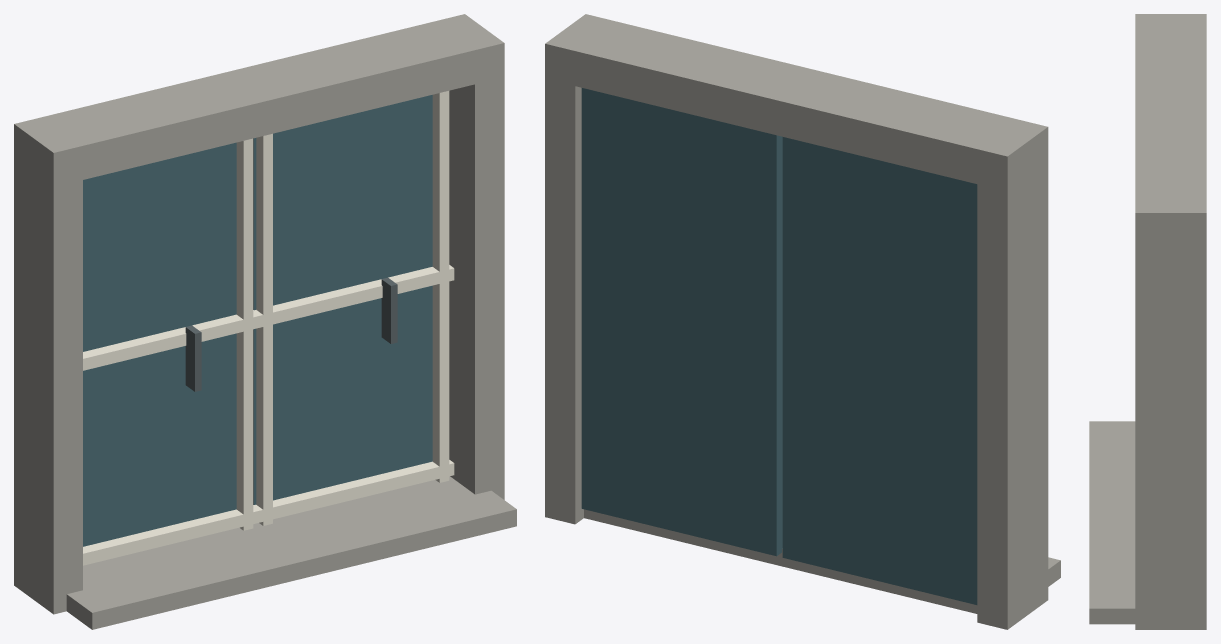
3 renders of one model, left to right at view 1: azimuth 30°, elevation 25°; view 2: azimuth 150°, elevation 25°; view 3: azimuth 270°, elevation 25°, orthographic. The views are drawn at different scales.
Parts seen in each view (by area): view 1: QH-A0037_V01_geometry; view 2: QH-A0037_V01_geometry; view 3: QH-A0037_V01_geometry.
Boxes of the visible parts, x1,y1,x2,y2 form: QH-A0037_V01_geometry: (14, 14, 516, 629); QH-A0037_V01_geometry: (545, 14, 1060, 629); QH-A0037_V01_geometry: (1089, 14, 1206, 629).
Size of the model in its own units: 2.76 by 2.7 by 0.69.
